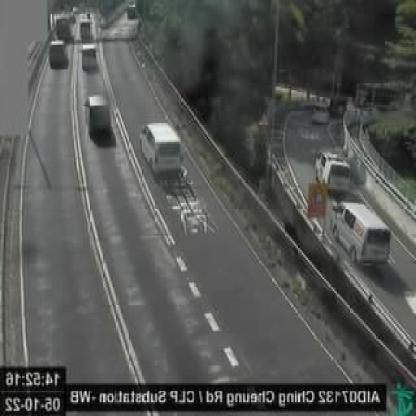Car: (332, 199, 392, 267), (142, 121, 183, 177), (317, 149, 350, 196), (86, 95, 112, 137), (51, 38, 69, 71), (82, 43, 100, 71)
